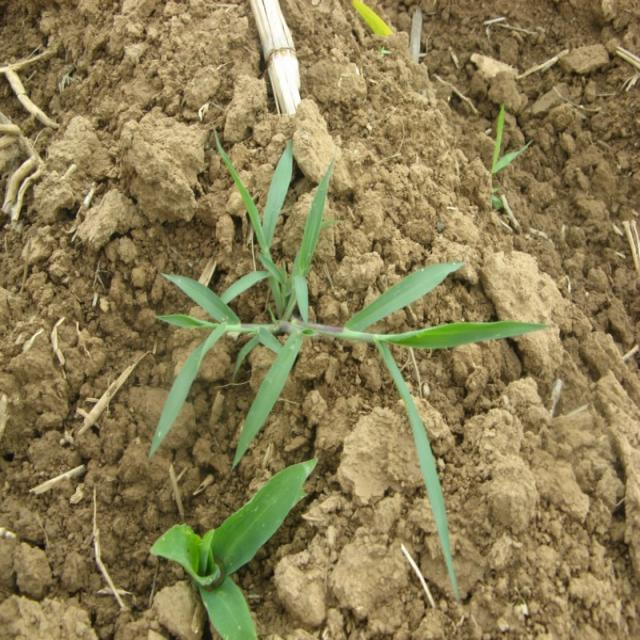bg: (150, 123, 553, 473)
